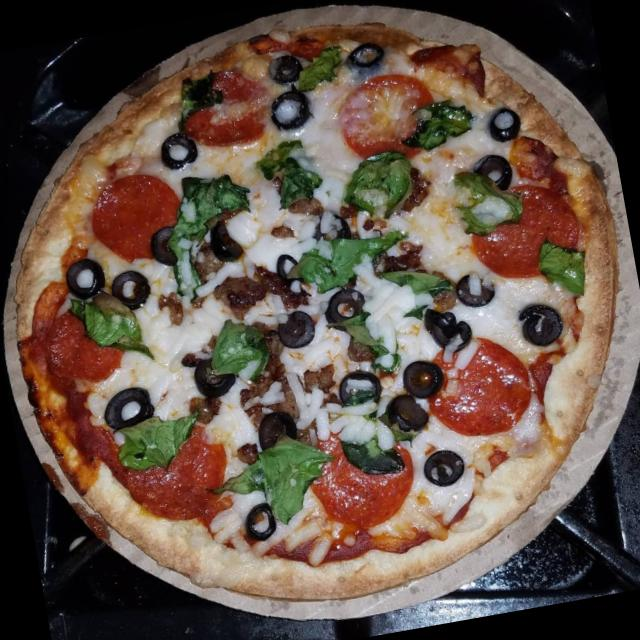black_olives: (93, 378, 158, 438), (512, 296, 570, 354), (58, 248, 110, 308), (316, 281, 370, 338), (186, 349, 238, 404), (262, 86, 318, 136), (332, 361, 385, 410), (272, 303, 322, 353), (107, 264, 154, 316), (420, 302, 470, 350), (421, 440, 471, 487), (380, 390, 431, 436), (250, 406, 300, 449), (398, 352, 444, 398), (472, 147, 516, 195), (202, 216, 246, 264), (145, 220, 186, 271), (158, 128, 202, 170), (241, 497, 282, 540), (458, 264, 497, 309), (348, 38, 389, 78), (264, 48, 306, 86), (486, 104, 526, 142), (311, 208, 350, 245), (271, 248, 303, 281)
pepperoni: (296, 415, 418, 540), (416, 329, 537, 449), (464, 176, 588, 289), (118, 416, 235, 528), (322, 69, 442, 176), (82, 164, 188, 264), (41, 297, 138, 387), (174, 66, 268, 154)
pizza: (19, 27, 618, 599)
